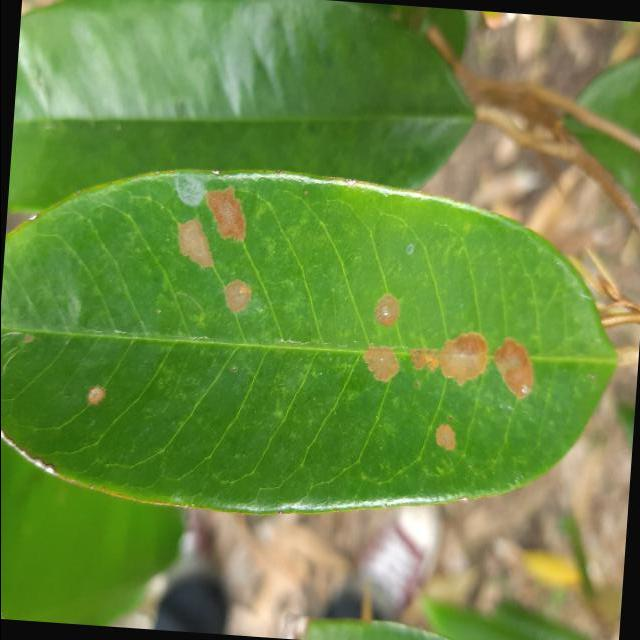Algal Leaf Spot: (1, 149, 637, 545)
